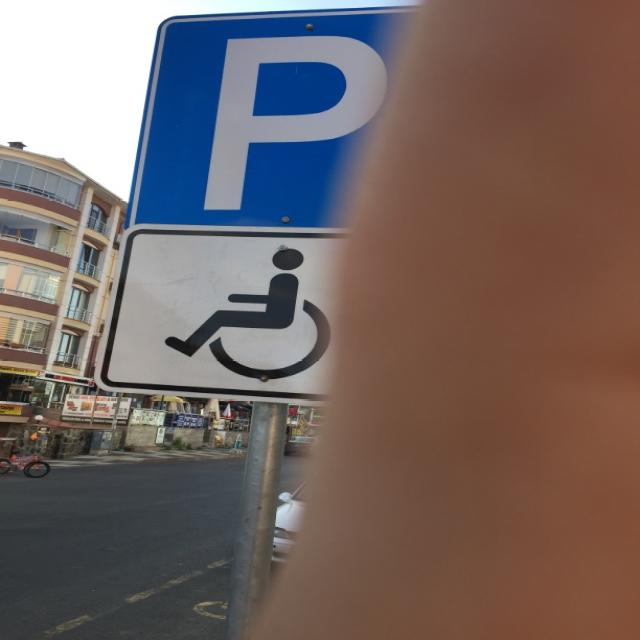park: (125, 13, 460, 232)
